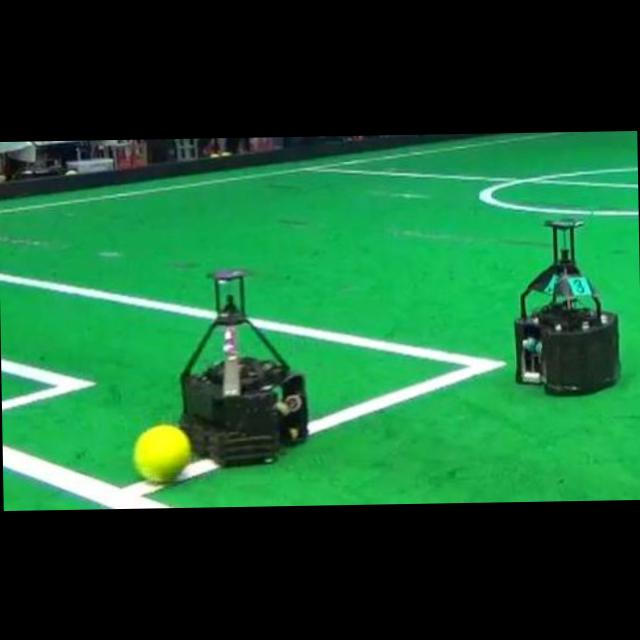ball: (132, 423, 190, 480)
robot: (181, 269, 306, 464), (515, 218, 618, 392)
